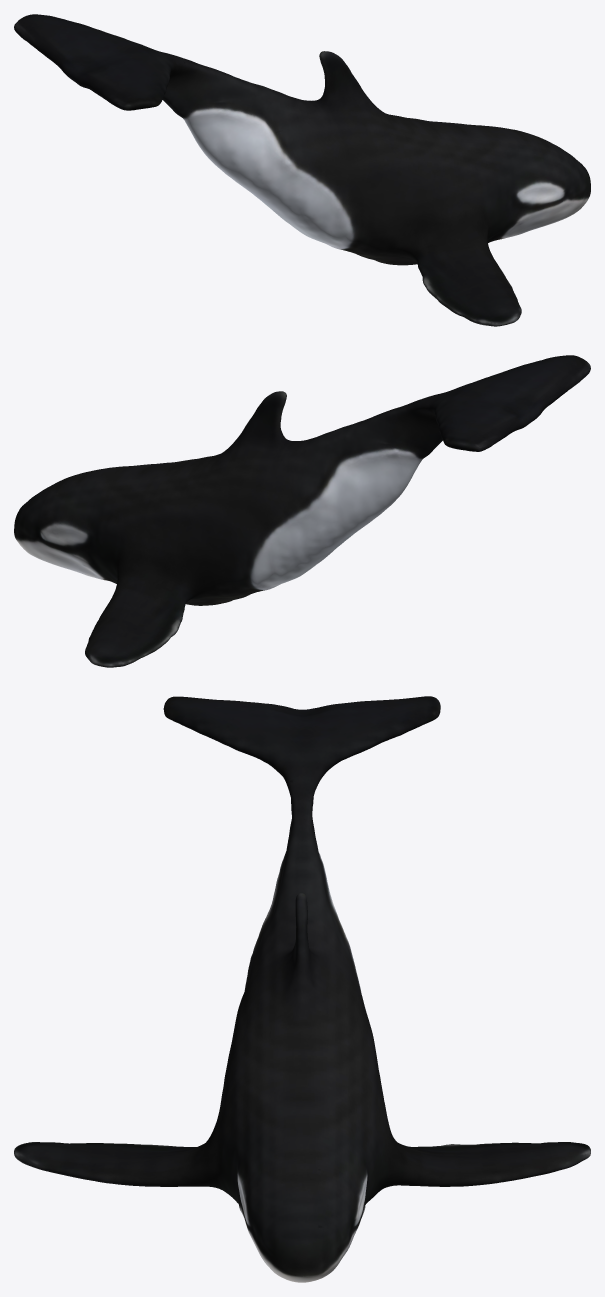
Rendered from 5ef211e2b70e_orca__3d_asset_0_glb.glb.
3 renders of one model, top to bottom at view 1: azimuth 30°, elevation 25°; view 2: azimuth 150°, elevation 25°; view 3: azimuth 270°, elevation 25°, orthographic. The views are drawn at different scales.
Parts seen in each view (by area): view 1: world; view 2: world; view 3: world.
Part boxes in pixels (left/top/right/bottom): world: left=14, top=14, right=590, bottom=326; world: left=14, top=355, right=590, bottom=667; world: left=14, top=696, right=590, bottom=1282.
Bounding box in the file's own units: 0.5296 × 0.275 × 0.4415.
1 material, 1 textured.
